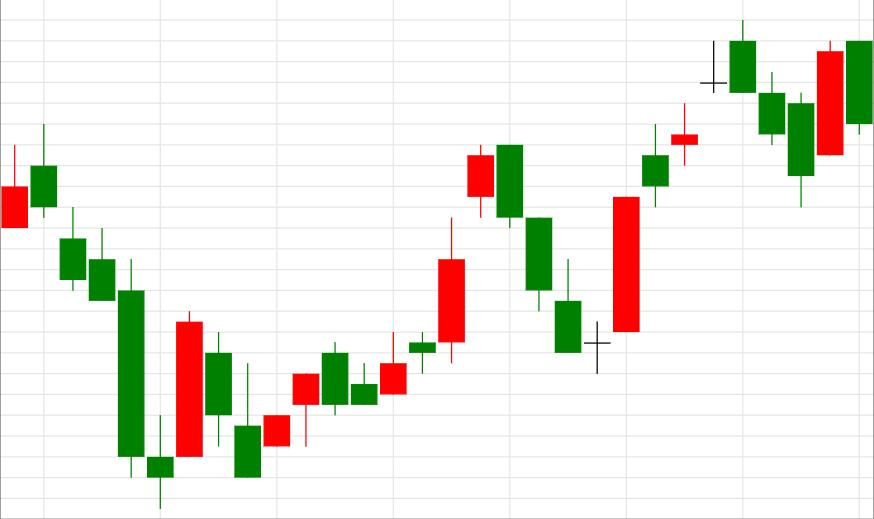morning_star_rise: (31, 125, 203, 508), (467, 141, 639, 373)
three_black_crows_fall: (380, 145, 582, 395)
